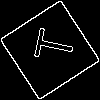T: (25, 25, 76, 65)
